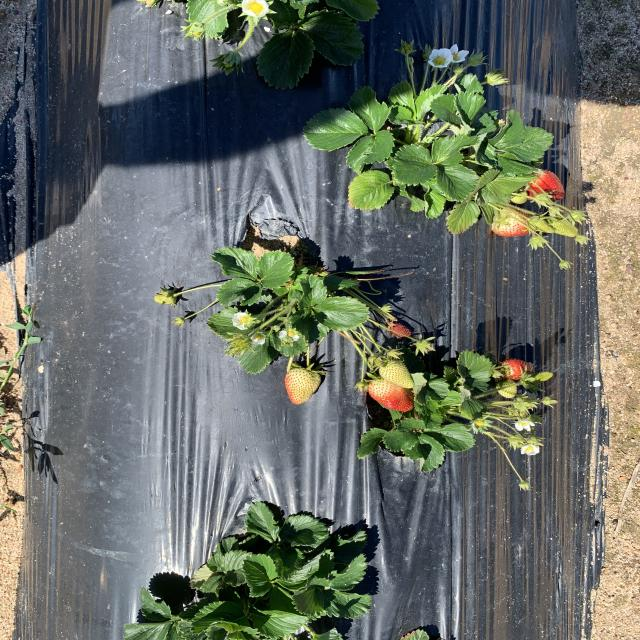unripe: (369, 377, 417, 412), (521, 169, 567, 199), (500, 359, 533, 376)
